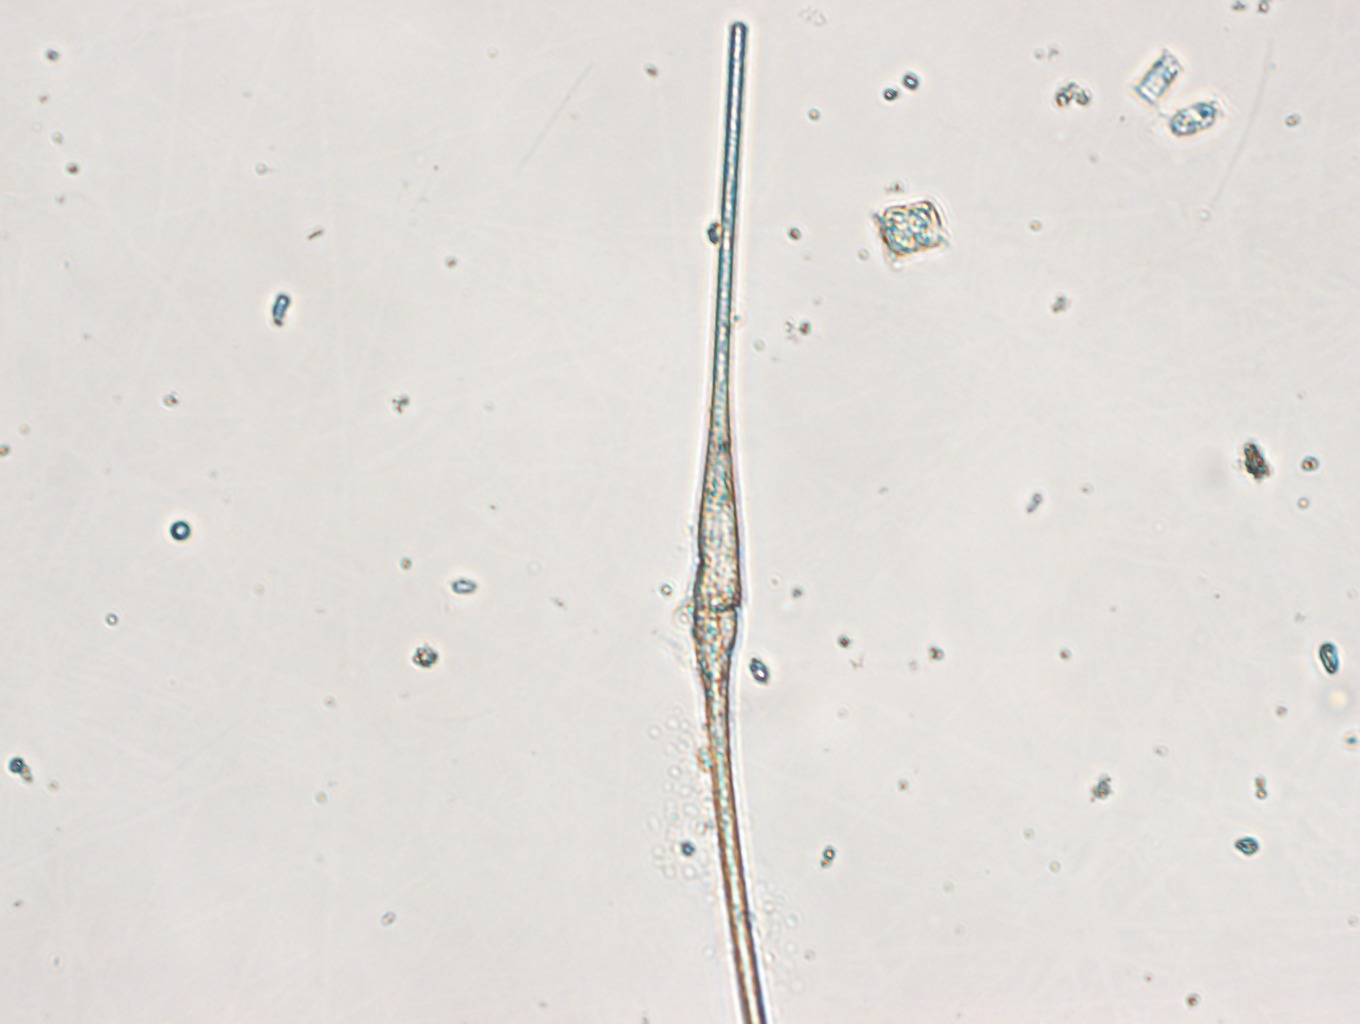ceratium fusus: (689, 22, 771, 1024)
